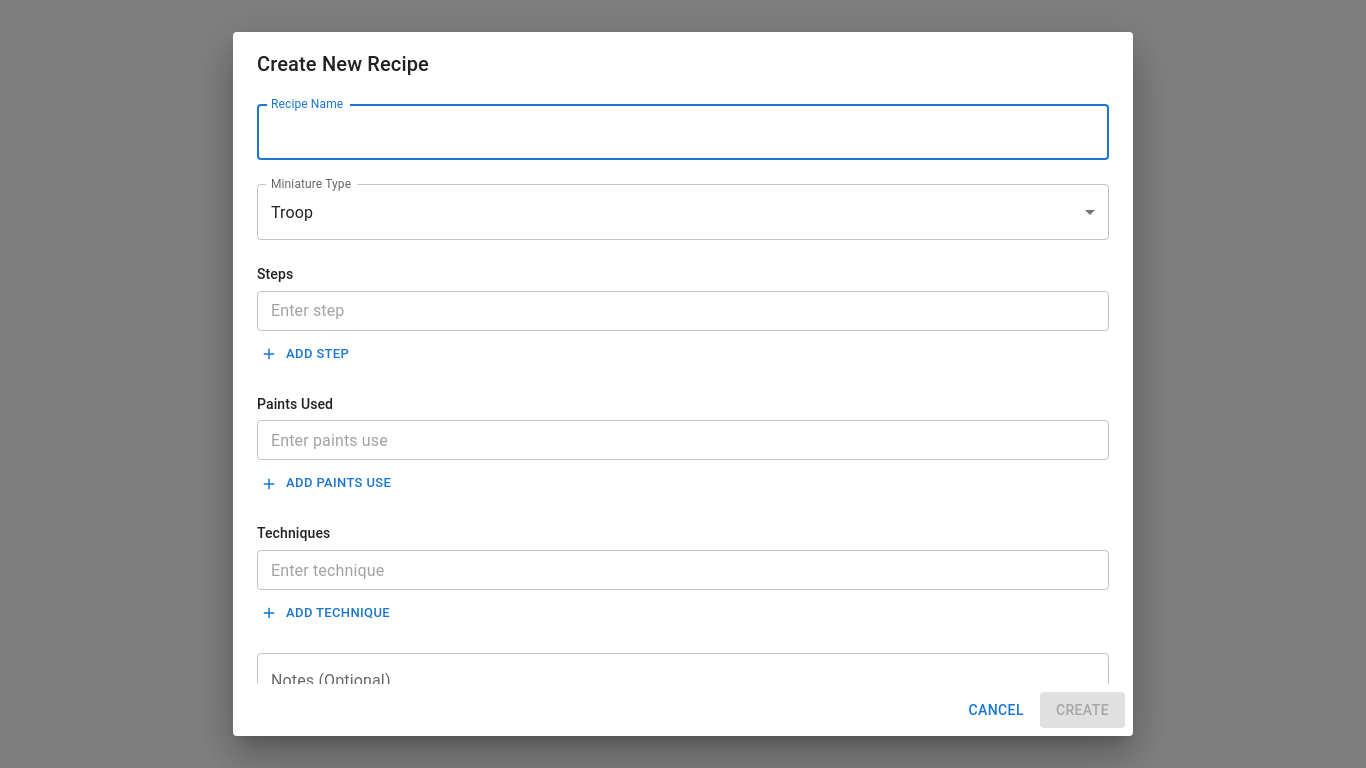
Test: RecipeForm › validates required fields
Expected: the button "Create" is disabled, top-left (1040, 692), bottom-right (1125, 728)
Note: Fill the name field
Type "Test Recipe" into the field labelled "Recipe Name".
click(683, 132); type("Test Recipe")  # box top-left (257, 104), bottom-right (1109, 160)
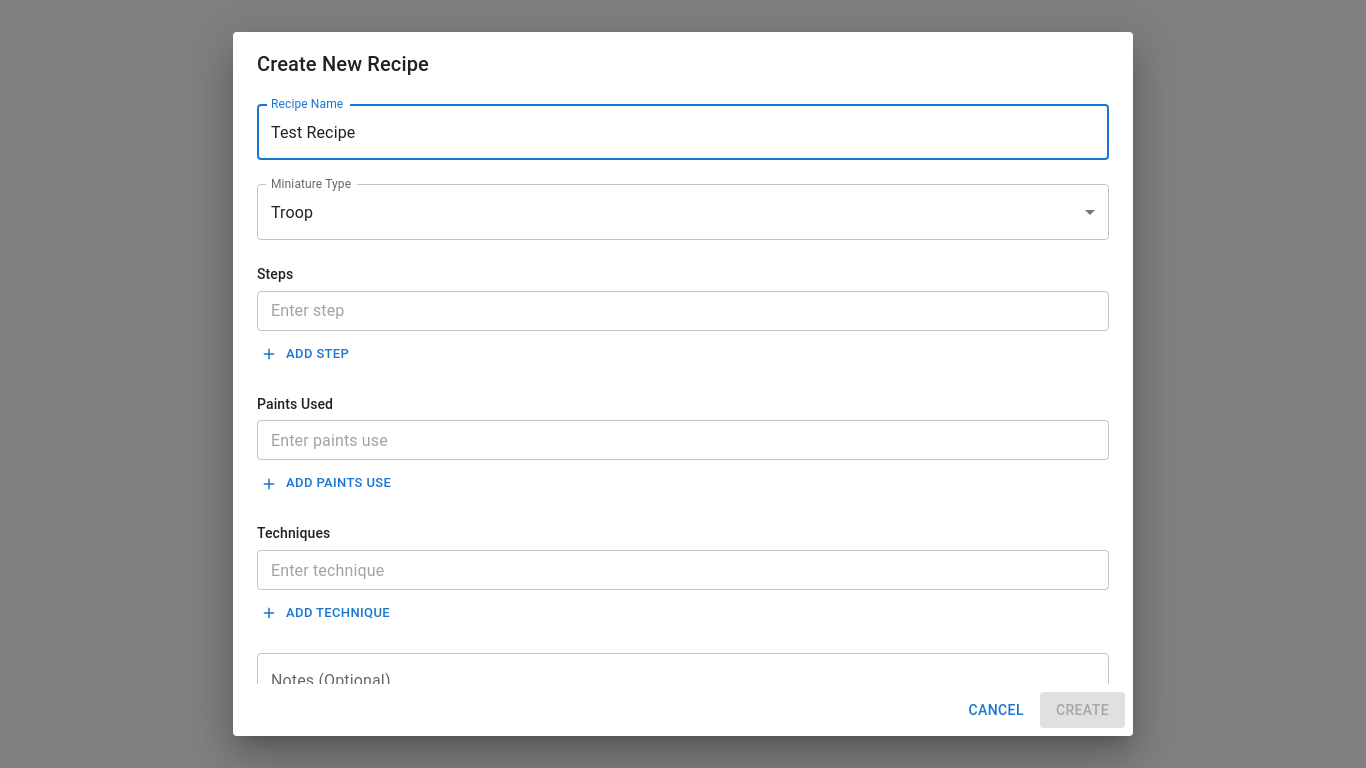
Note: Fill the first step to make form valid
Type "First step" into the field with placeholder "Enter step".
click(683, 311); type("First step")  # box top-left (257, 291), bottom-right (1109, 331)
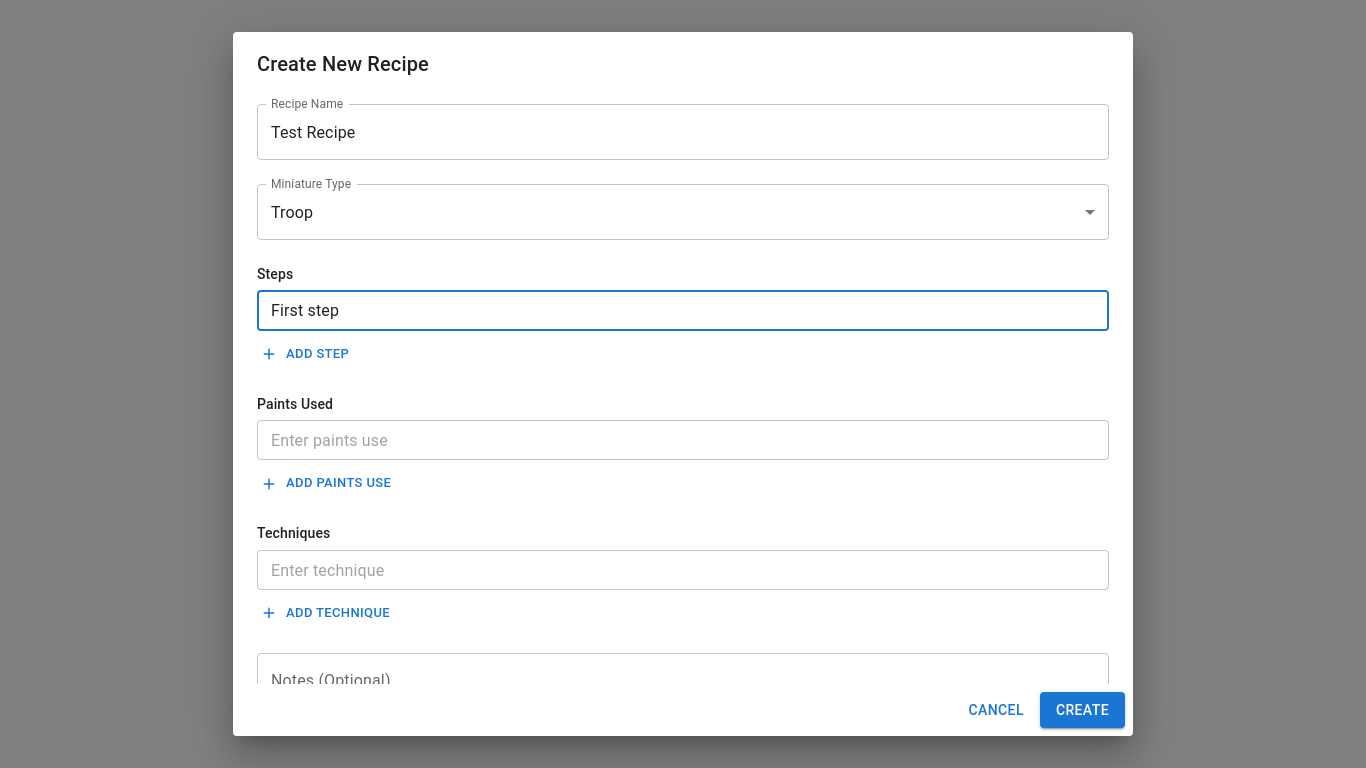
Result: the button "Create" is enabled at top-left (1040, 692), bottom-right (1125, 728)
